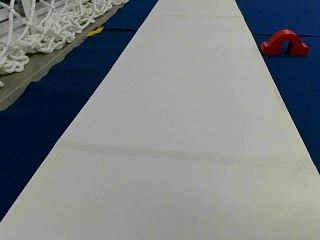bridge: (261, 29, 308, 54)
